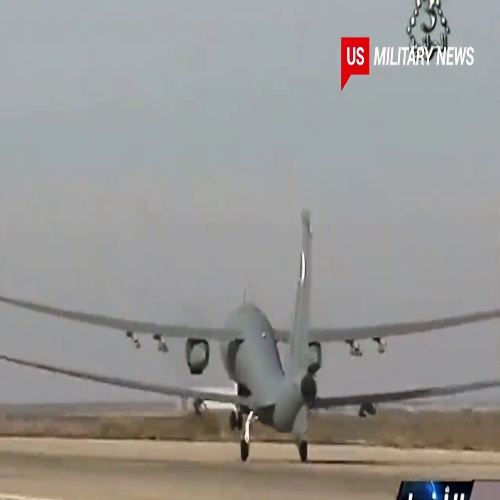uav: (4, 213, 500, 462)
